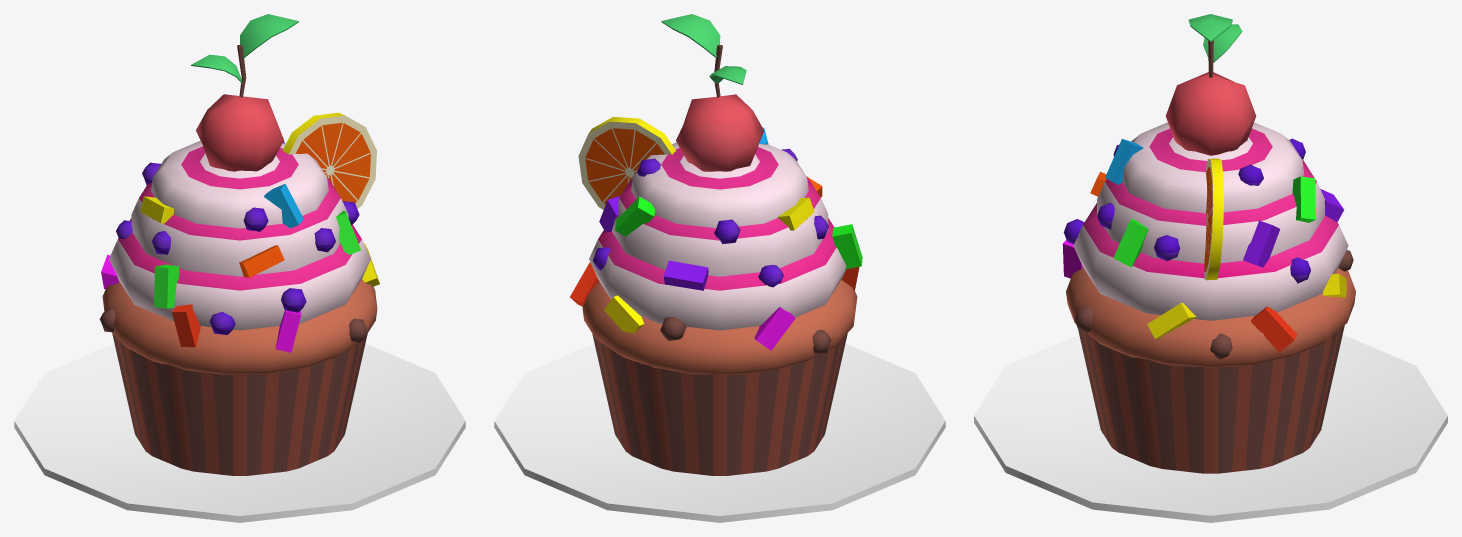
The model's file is CupcakeStrawBerryS.fbx.
3 views of the same model, side by side, from view 1: azimuth 30°, elevation 25°; view 2: azimuth 150°, elevation 25°; view 3: azimuth 270°, elevation 25° (orthographic). The views are drawn at different scales.
Visible parts, largest first — view 1: Cupcake_lv5; view 2: Cupcake_lv5; view 3: Cupcake_lv5.
Part boxes in pixels (box(x1,y1,x2,y2)): Cupcake_lv5: box(14, 14, 465, 522); Cupcake_lv5: box(494, 14, 945, 522); Cupcake_lv5: box(974, 14, 1447, 522).
Bounding box in the file's own units: 151 × 159 × 151.
